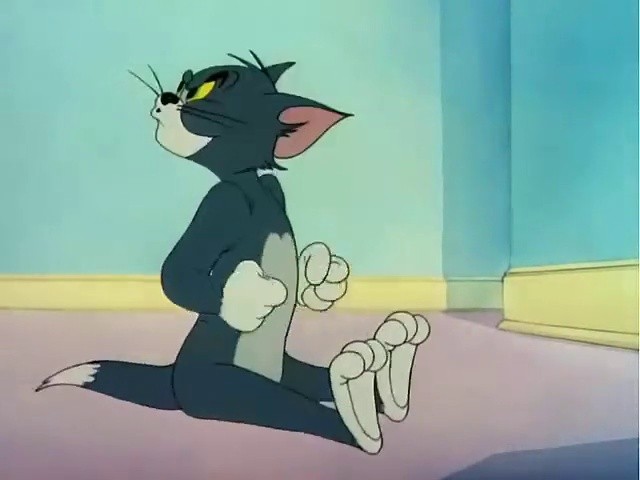tom: (29, 26, 459, 465)
